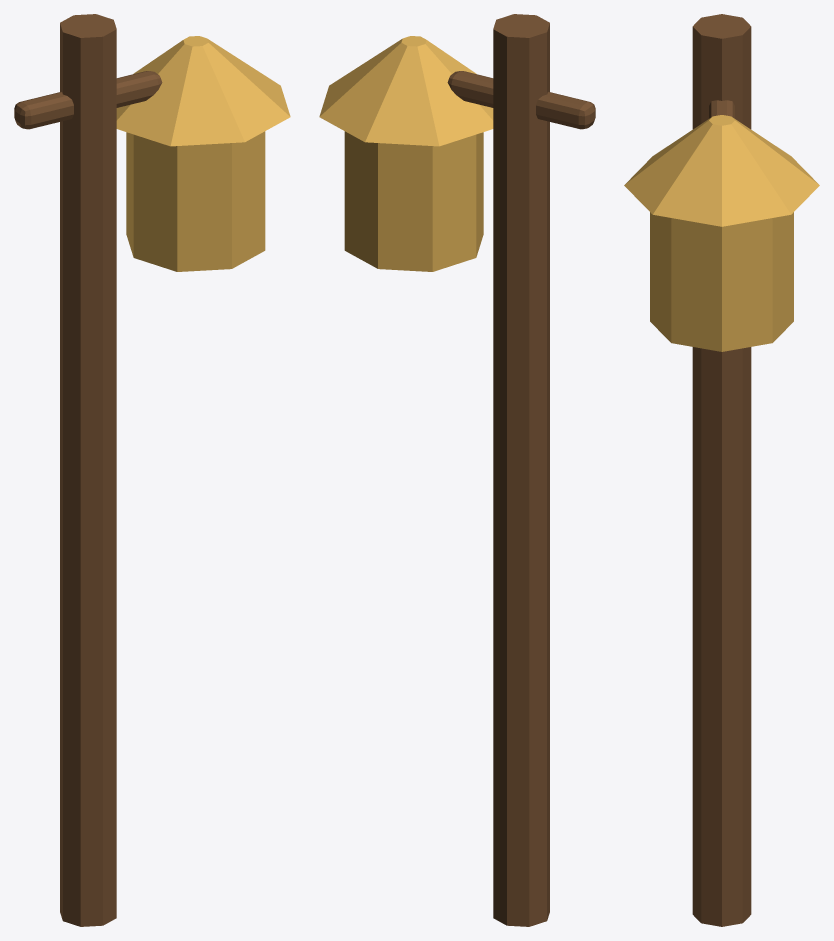
Rendered from lantern_post.glb.
3 views of the same model, side by side, from view 1: azimuth 30°, elevation 25°; view 2: azimuth 150°, elevation 25°; view 3: azimuth 270°, elevation 25° (orthographic).
Parts seen in each view (by area): view 1: Post, LanternFrame, Cap, Crossbar; view 2: Post, LanternFrame, Cap, Crossbar; view 3: Post, LanternFrame, Cap.
Boxes of the visible parts, bbox=[...] form: Post: bbox=[60, 14, 116, 926]; LanternFrame: bbox=[126, 131, 265, 271]; Cap: bbox=[116, 36, 290, 146]; Crossbar: bbox=[14, 71, 162, 129]; Post: bbox=[493, 14, 549, 926]; LanternFrame: bbox=[344, 131, 483, 271]; Cap: bbox=[319, 36, 493, 146]; Crossbar: bbox=[447, 71, 595, 129]; Post: bbox=[692, 14, 751, 926]; LanternFrame: bbox=[650, 212, 793, 351]; Cap: bbox=[624, 115, 819, 226].
Size of the model in its own units: 0.93 by 3 by 0.6.
